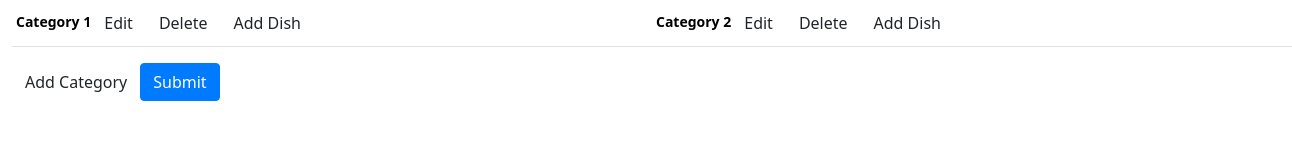
Test case: CategoriesTable Component › adds a new category
Check: the column heading "Category 1" is shown, box [16,12,91,31]
Click the button "Add Category" at (76, 82), box [12,63,140,101]
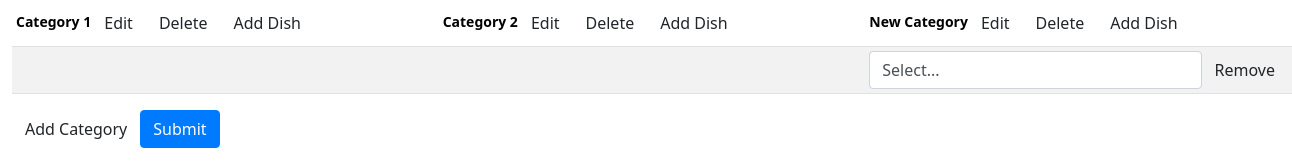
Check: the column heading "New Category" is shown, box [869,12,968,31]
